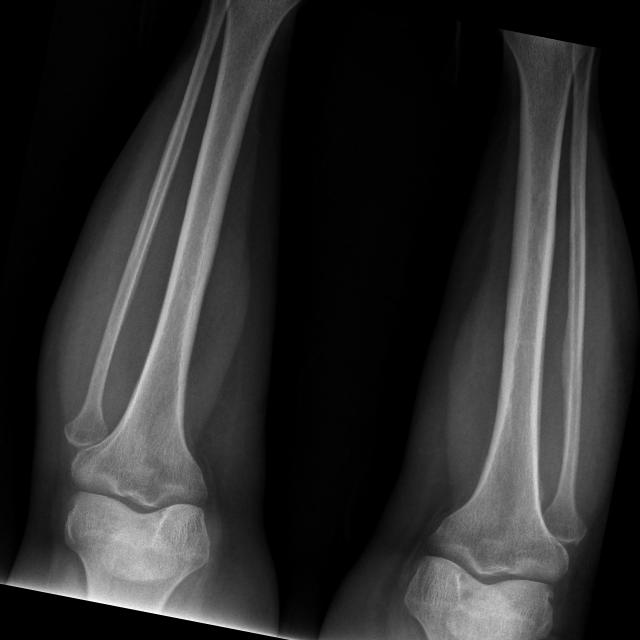Knee: (399, 498, 578, 640), (57, 436, 231, 576)
